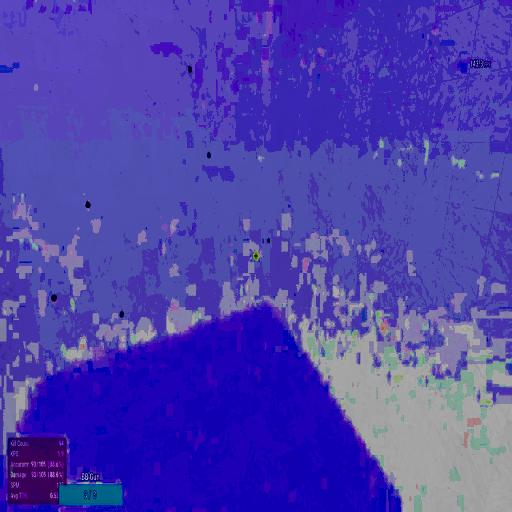Crosshair: (253, 251, 259, 262)
Target: (83, 200, 93, 210), (118, 308, 124, 319), (51, 294, 58, 302), (207, 152, 211, 160), (266, 237, 271, 243), (188, 66, 192, 73)
